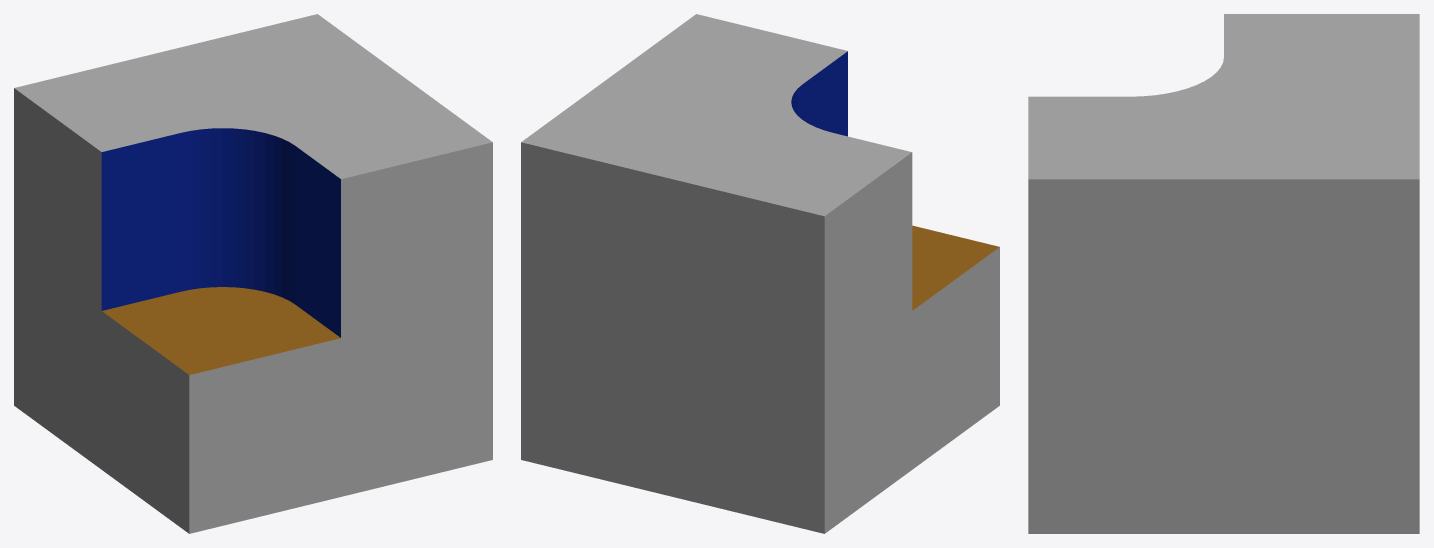
The model's file is case_127.fbx.
3 views of the same model, side by side, from view 1: azimuth 30°, elevation 25°; view 2: azimuth 150°, elevation 25°; view 3: azimuth 270°, elevation 25° (orthographic). The views are drawn at different scales.
Parts seen in each view (by area): view 1: case_127; view 2: case_127; view 3: case_127.
Part boxes in pixels (bbox=[...]): case_127: bbox=[14, 14, 492, 533]; case_127: bbox=[521, 14, 999, 533]; case_127: bbox=[1028, 14, 1419, 533].
Bounding box in the file's own units: 1 × 1 × 1.
